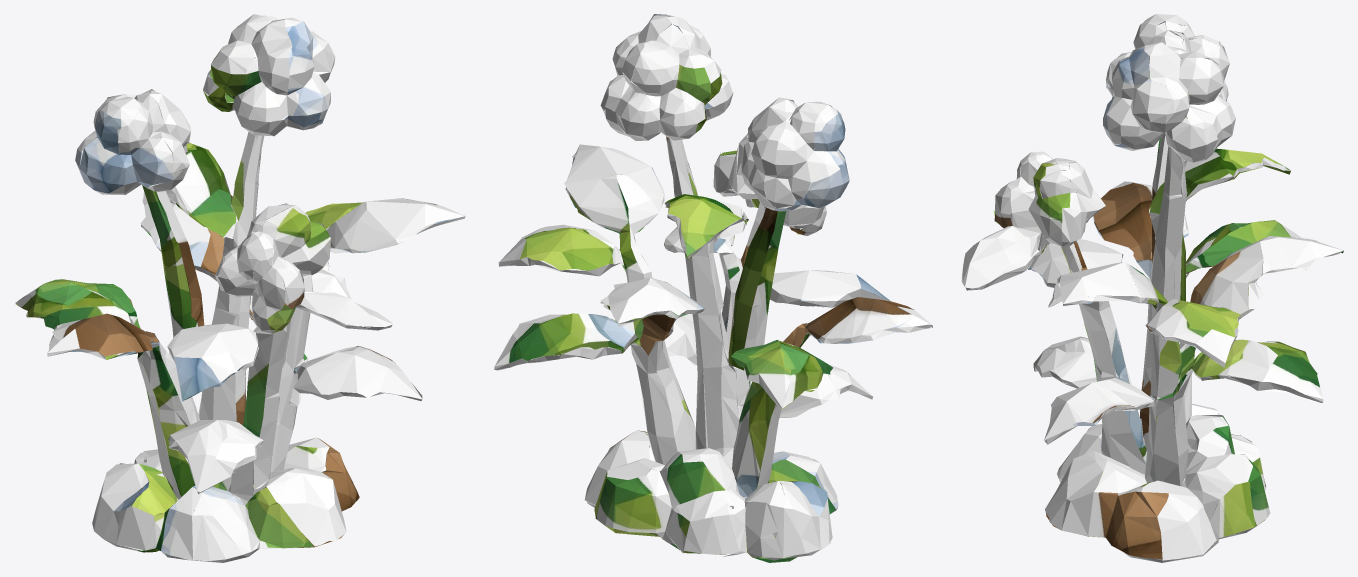
Rendered from CloudBerry_mature.obj.
3 renders of one model, left to right at view 1: azimuth 30°, elevation 25°; view 2: azimuth 150°, elevation 25°; view 3: azimuth 270°, elevation 25°, orthographic.
Visible parts, largest first — view 1: CloudBerry_mature; view 2: CloudBerry_mature; view 3: CloudBerry_mature.
Part boxes in pixels (bbox=[...]): CloudBerry_mature: bbox=[15, 14, 465, 562]; CloudBerry_mature: bbox=[494, 14, 932, 562]; CloudBerry_mature: bbox=[961, 14, 1343, 562].
Bounding box in the file's own units: 1.61 × 2 × 1.38.
